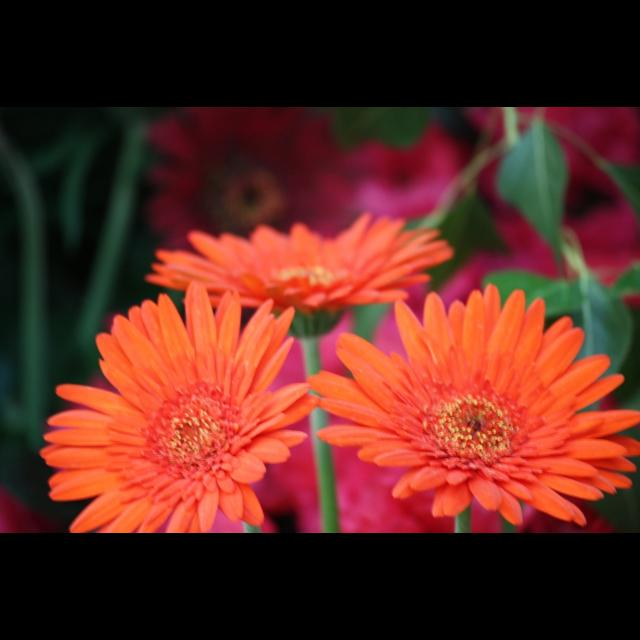Flower: (39, 282, 321, 534), (308, 298, 606, 532), (141, 206, 455, 316), (144, 107, 360, 251)
